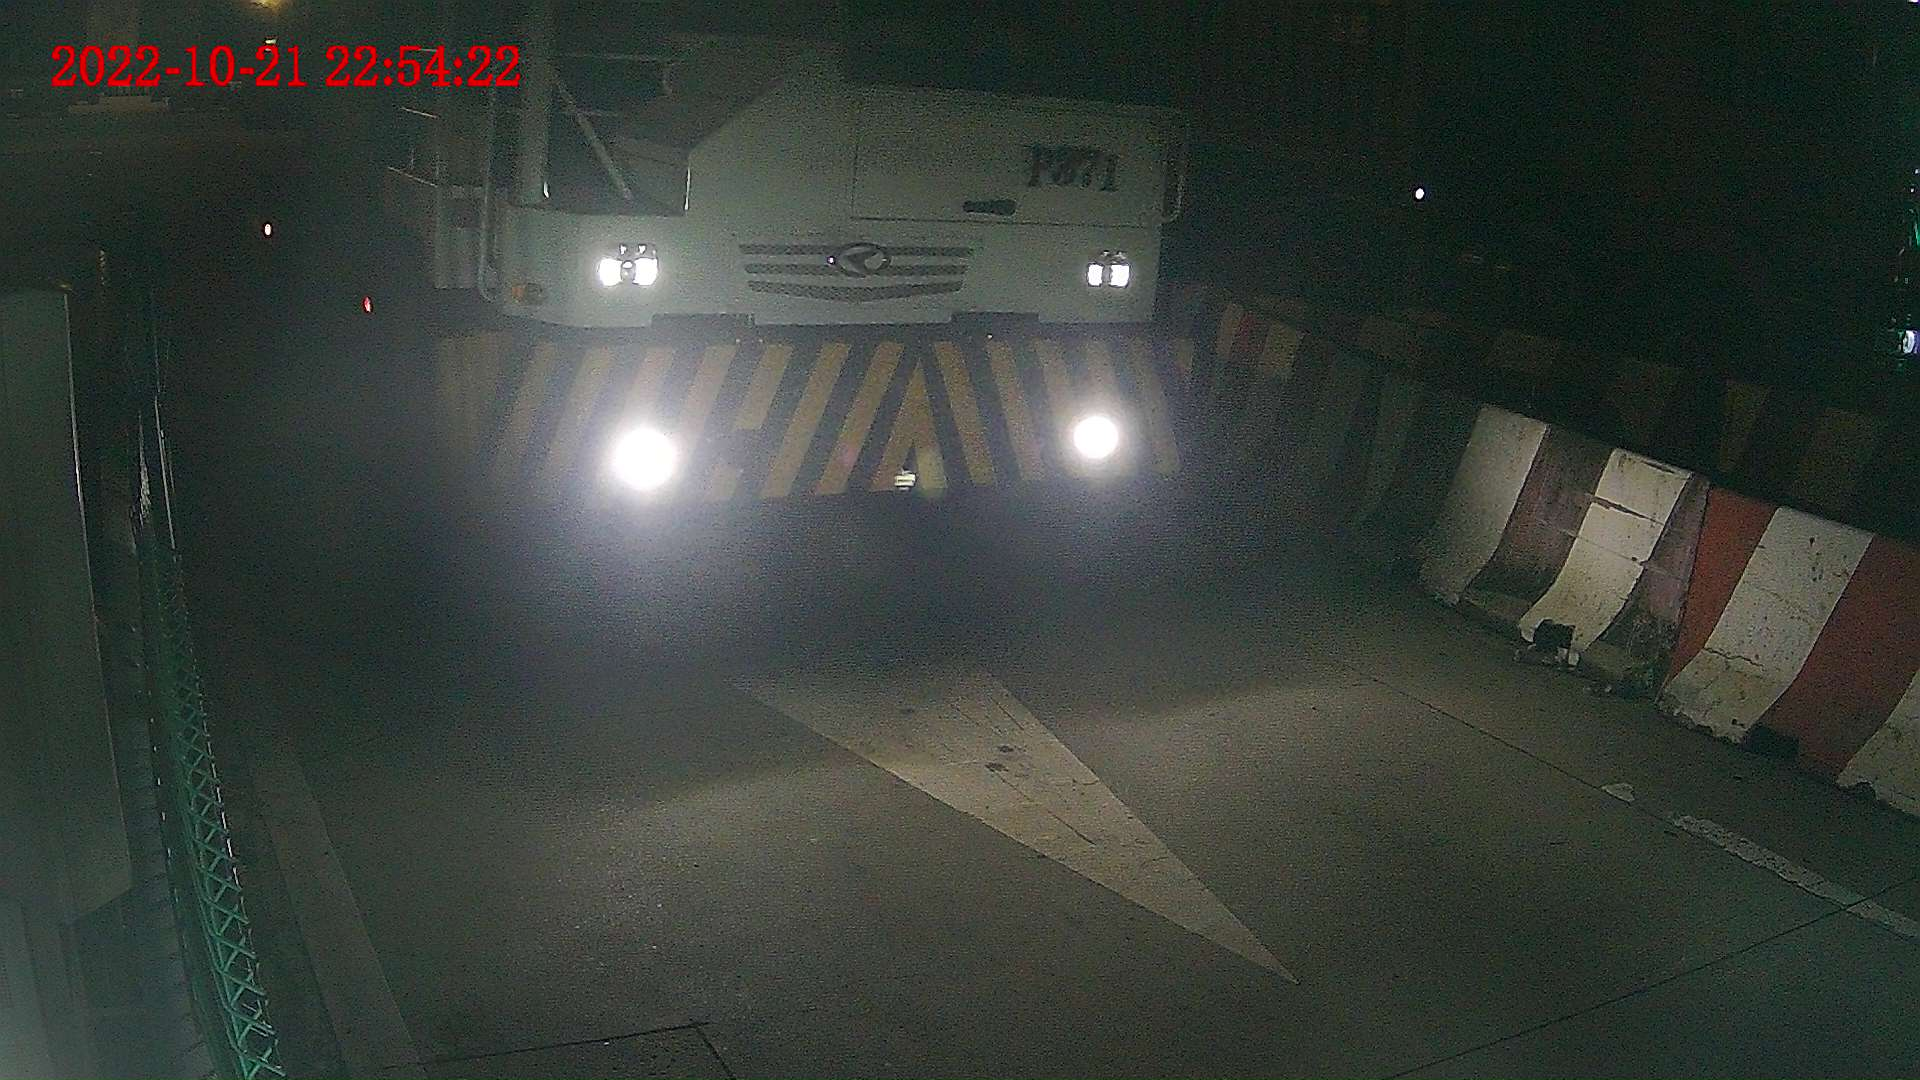head: (416, 1, 1199, 553)
